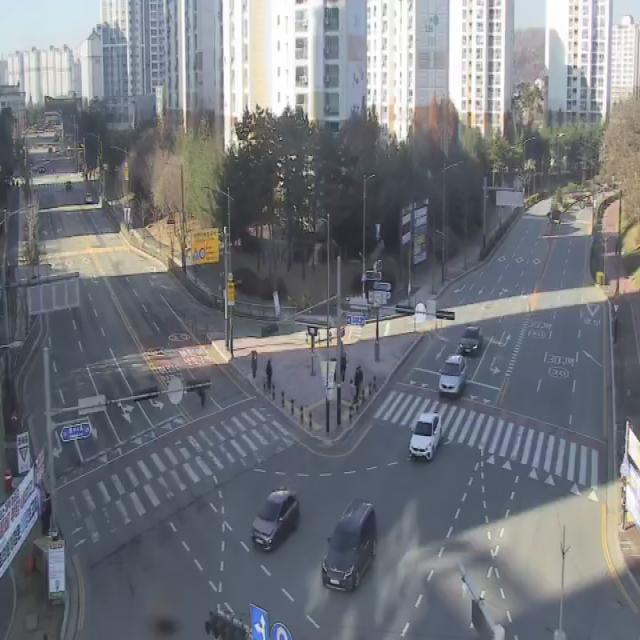Car: (322, 499, 377, 593), (252, 490, 299, 552), (409, 414, 442, 463), (439, 356, 467, 398), (459, 326, 483, 356)
